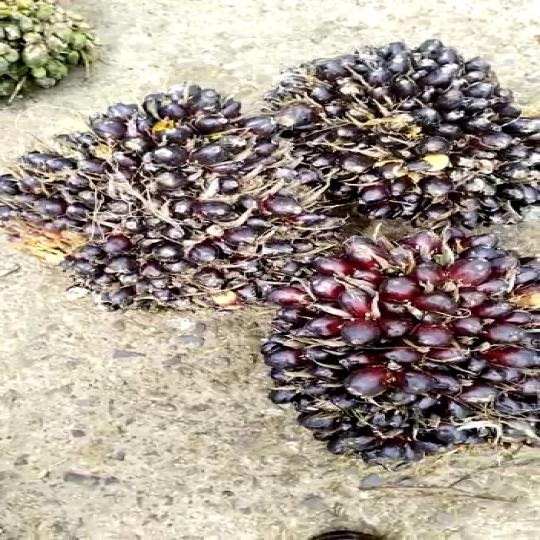mentah: (0, 70, 327, 338), (280, 212, 540, 462), (273, 26, 540, 242)
